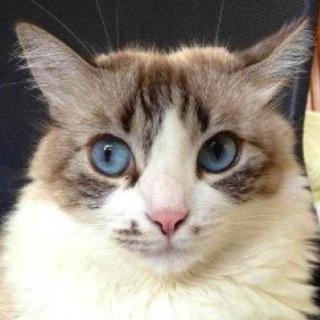cat: (15, 8, 317, 290)
nose: (141, 190, 198, 244)
